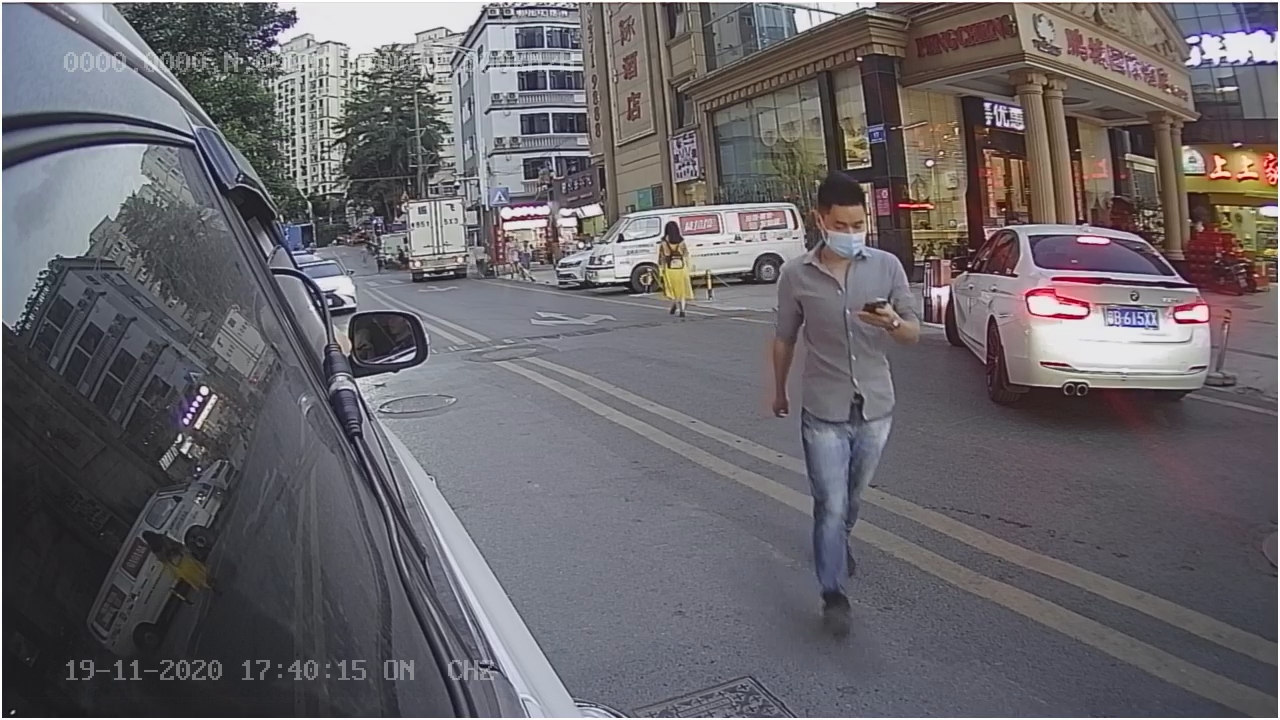person: (764, 169, 926, 629)
